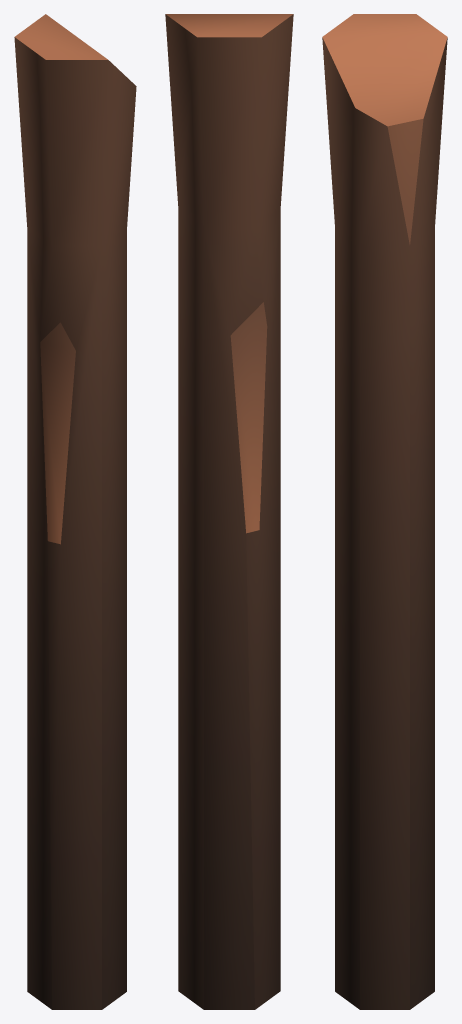
File: Wooden_Pole_1B.fbx
The picture shows the model from 3 angles, left to right: view 1: azimuth 90°, elevation 25°; view 2: azimuth 150°, elevation 25°; view 3: azimuth 330°, elevation 25°; orthographic projection. The views are drawn at different scales.
Visible parts, largest first — view 1: Wooden_Pole_1B; view 2: Wooden_Pole_1B; view 3: Wooden_Pole_1B.
Boxes of the visible parts, <box> form: Wooden_Pole_1B: <box>14,14,136,1009</box>; Wooden_Pole_1B: <box>165,14,293,1009</box>; Wooden_Pole_1B: <box>322,14,447,1009</box>.
Bounding box in the file's own units: 0.2241 × 2.17 × 0.252.
